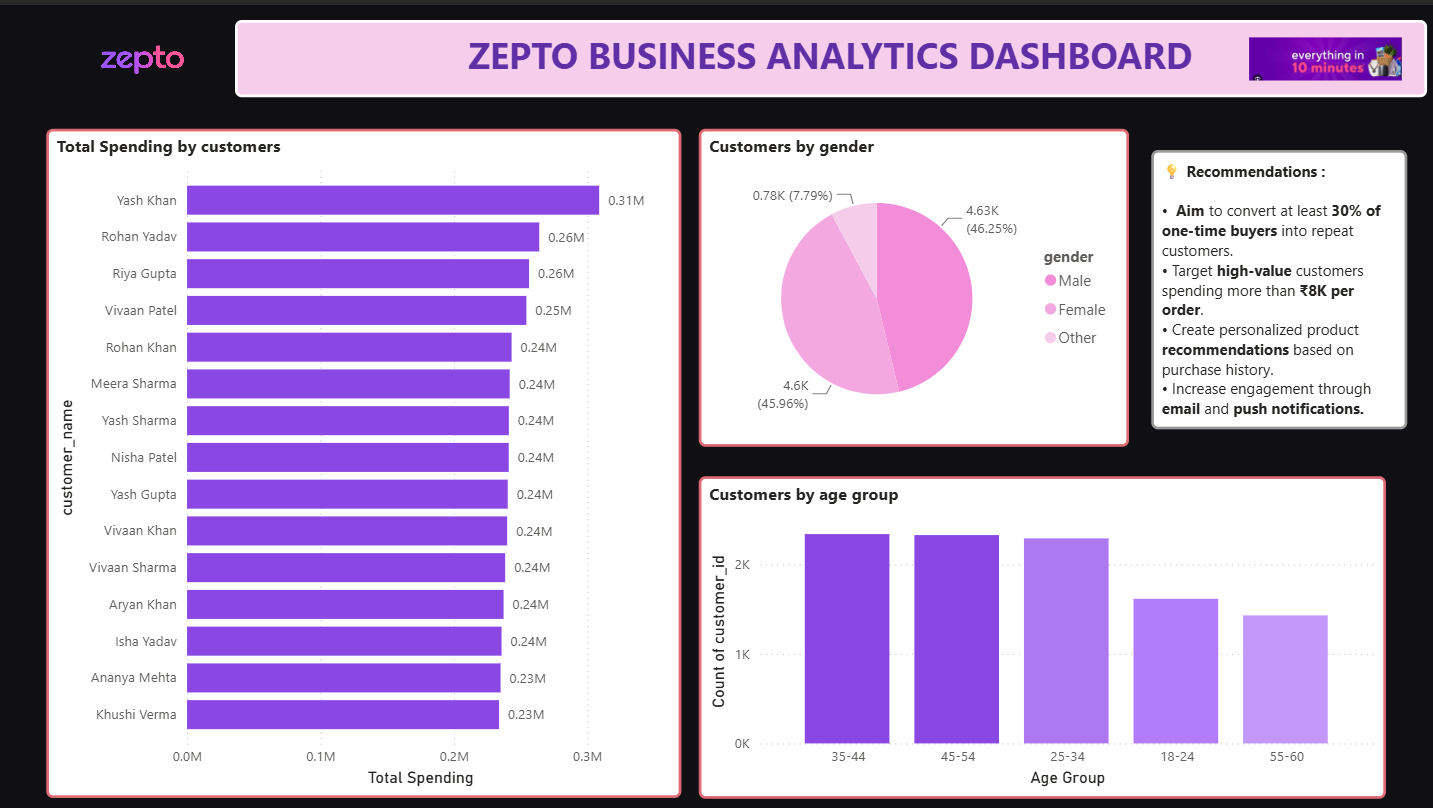

The page's visual inventory and layout, read from the dashboard file:
{"tool":"powerbi","page":{"name":"Customer Analysis","canvas":[1280,720],"ordinal":2},"visuals":[{"type":"textbox","box":[209.8,13.5,1061.4,68.7],"z":0},{"type":"image","box":[0,0,251,103],"z":1000},{"type":"pieChart","title":"Customers by gender","fields":{"Y":["Count(customer_Sheet.customer_id)"],"Category":["customer_Sheet.gender"]},"box":[622.1,110.4,382.8,283.4],"z":2000},{"type":"columnChart","title":"Customers by age group","fields":{"Category":["customer_Sheet.Age Group"],"Y":["Count(customer_Sheet.customer_id)"]},"box":[622.1,419.6,612.3,287.1],"z":3000},{"type":"clusteredBarChart","title":"Total Spending by customers","fields":{"Category":["customer_Sheet.customer_name"],"Y":["customer_Sheet.Total Spending"]},"box":[41.7,110.4,565.6,596.3],"z":4000},{"type":"textbox","box":[1025.8,128.8,228.2,249.1],"z":5000},{"type":"image","box":[1108,19.6,146,56.4],"z":6000}]}

Visuals, with their boxes in screenshot pixels (x1, y1, x2, y2), scaled from the page's 1280x720 canvas onto the 1433x808 screenshot:
textbox: BBox(235, 15, 1423, 92)
image: BBox(0, 0, 281, 116)
"Customers by gender" pieChart: BBox(696, 124, 1125, 442)
"Customers by age group" columnChart: BBox(696, 471, 1382, 793)
"Total Spending by customers" clusteredBarChart: BBox(47, 124, 680, 793)
textbox: BBox(1148, 145, 1404, 424)
image: BBox(1240, 22, 1404, 85)
